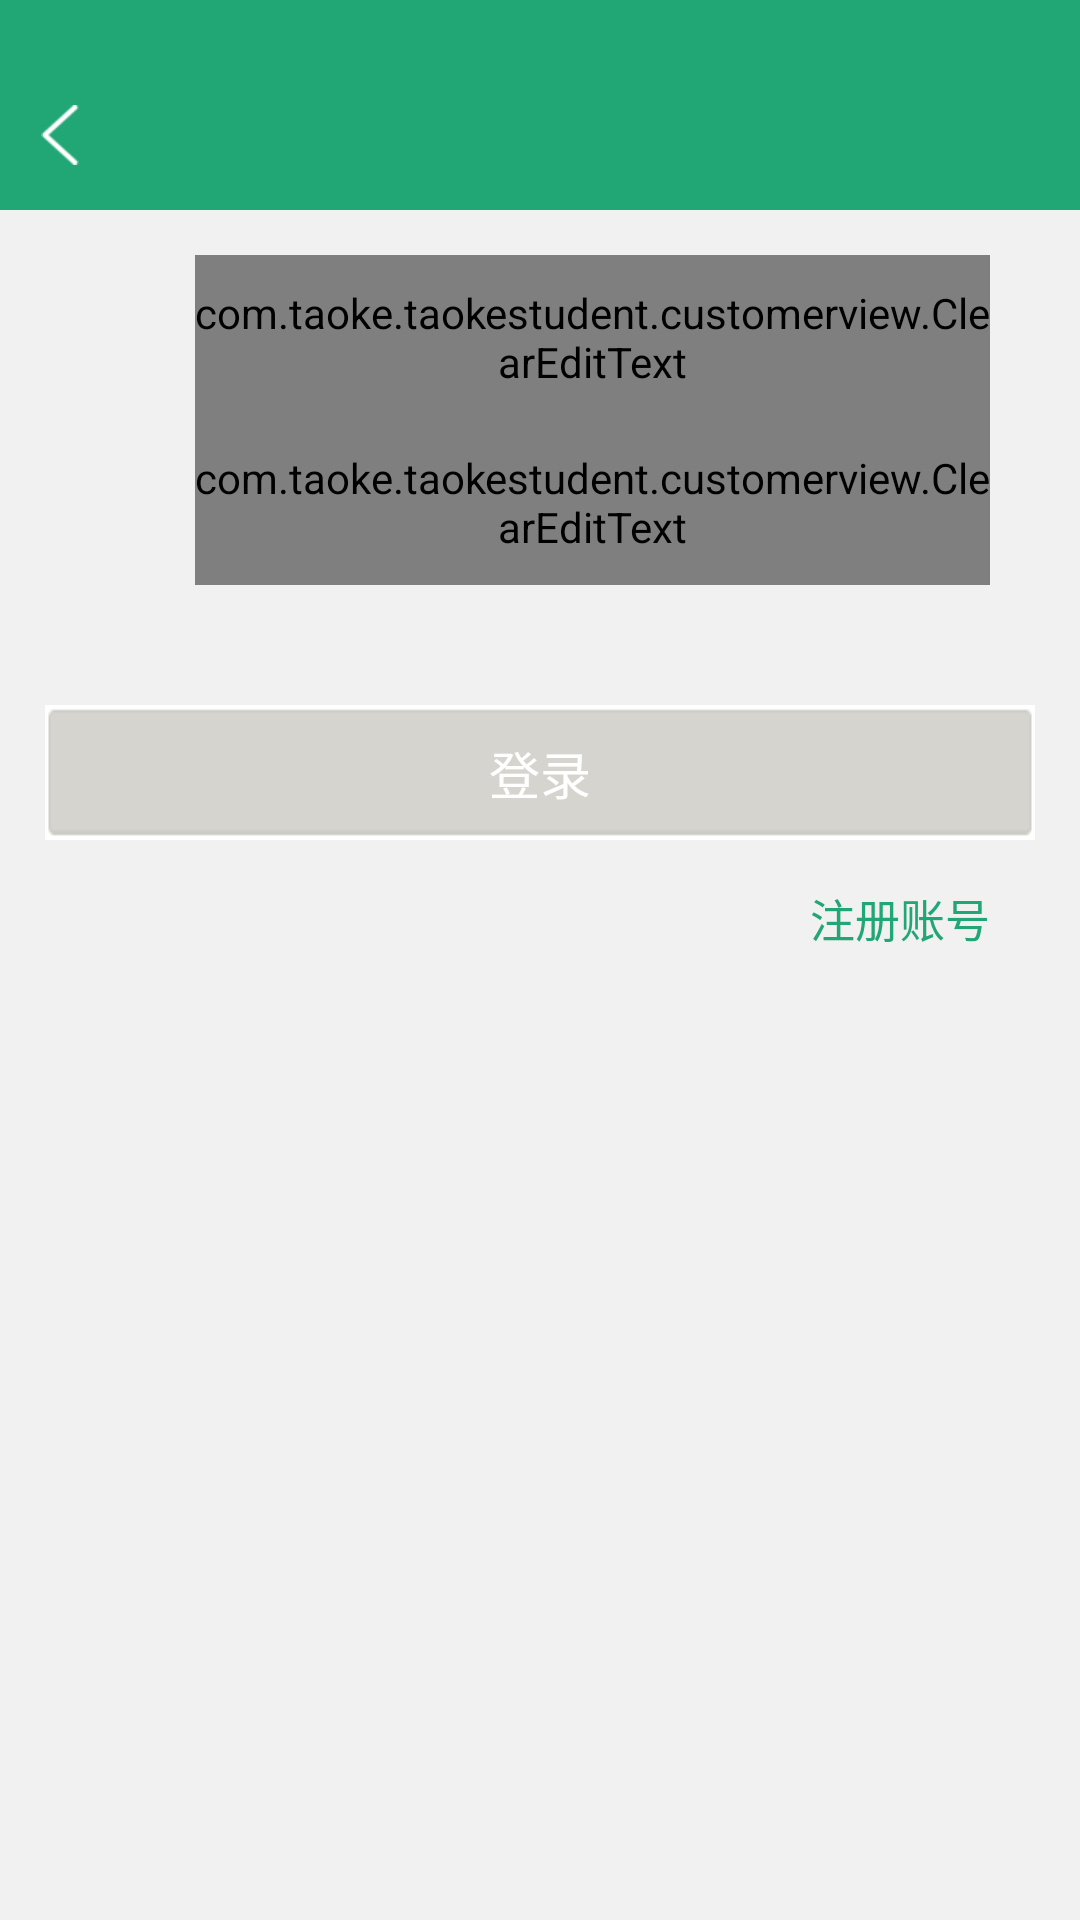

Screen size 1080px x 1920px. Icon name, then its center in pixels as [x,y]:
arrow left: [60,135]
